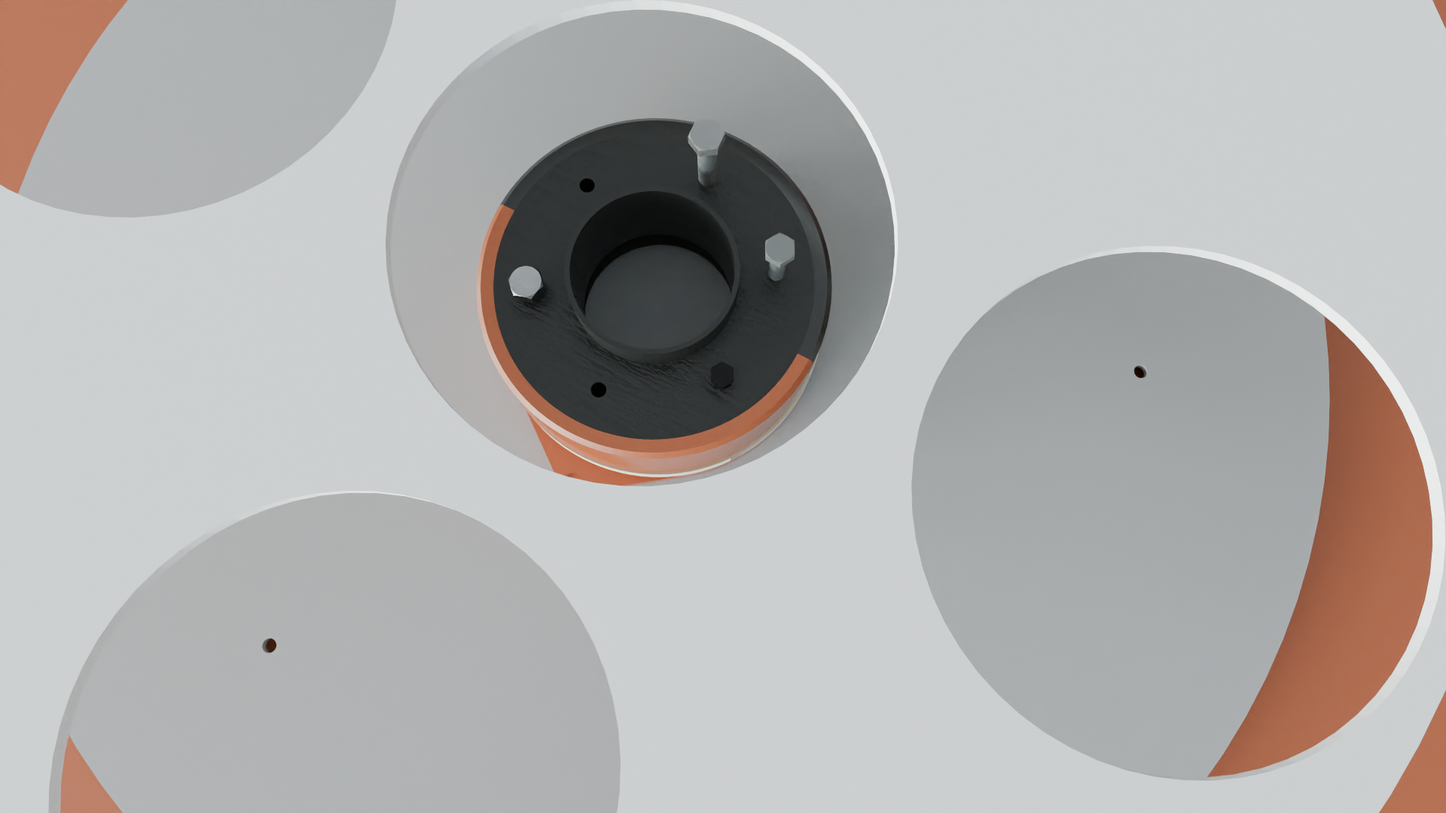bolt: (508, 266, 544, 300), (688, 119, 725, 151), (766, 233, 795, 264), (711, 361, 734, 386)
